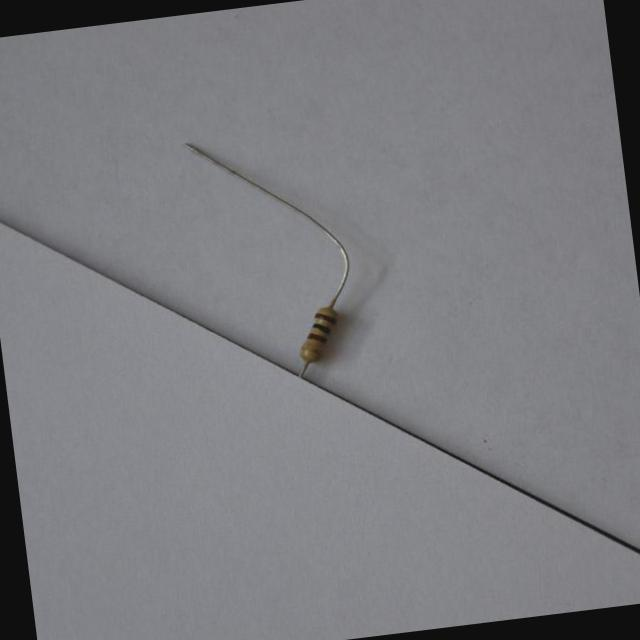Resistor: (299, 306, 336, 376)
black: (314, 323, 332, 334)
brown: (316, 314, 337, 323), (308, 333, 327, 342)
gold: (303, 347, 324, 357)
